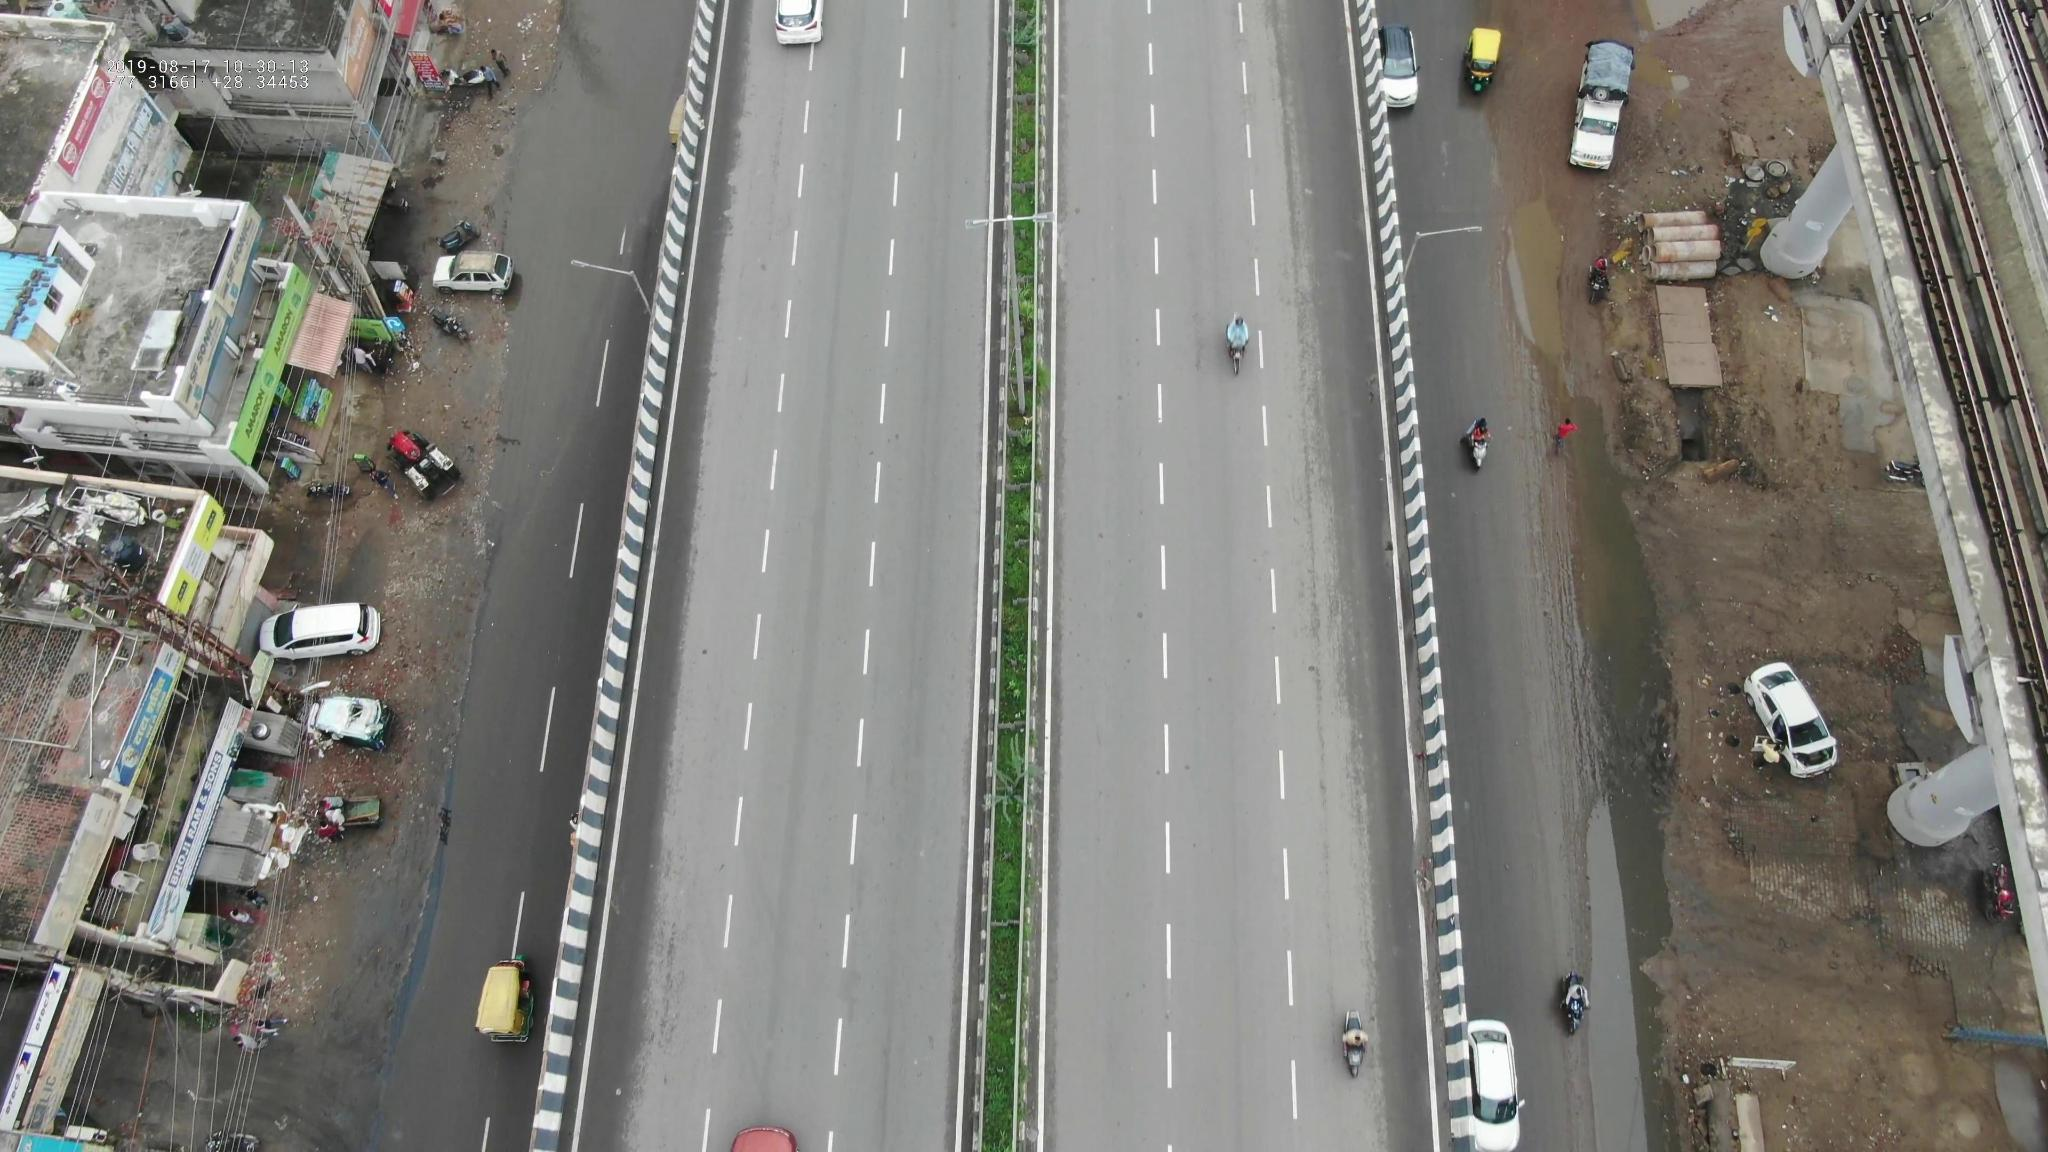Waterlogging: (466, 59, 629, 519), (1542, 388, 1678, 761), (1571, 807, 1696, 1148), (1481, 184, 1589, 373), (385, 828, 453, 1031)
